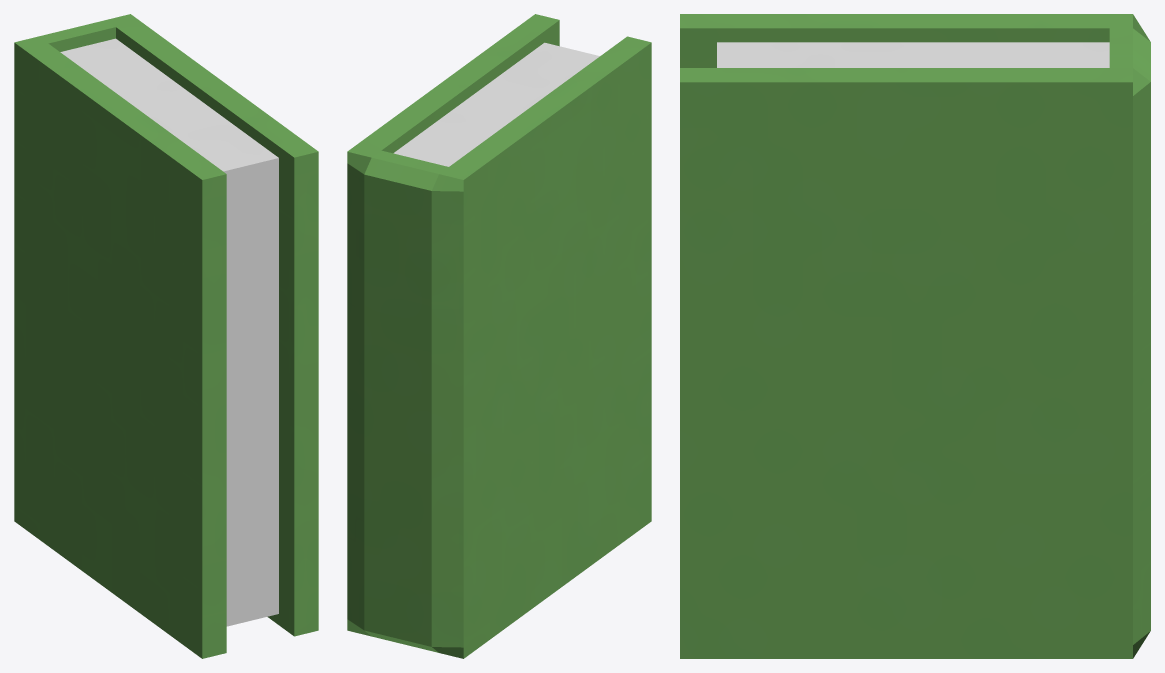
File: Book_01_01.fbx
The picture shows the model from 3 angles, left to right: view 1: azimuth 30°, elevation 25°; view 2: azimuth 150°, elevation 25°; view 3: azimuth 270°, elevation 25°; orthographic projection. The views are drawn at different scales.
Parts seen in each view (by area): view 1: Book_01_01; view 2: Book_01_01; view 3: Book_01_01.
Part boxes in pixels (x1,y1,x2,y2): Book_01_01: [14, 14, 318, 658]; Book_01_01: [347, 14, 651, 658]; Book_01_01: [680, 14, 1150, 658].
Bounding box in the file's own units: 0.0979 × 0.3847 × 0.2847.
